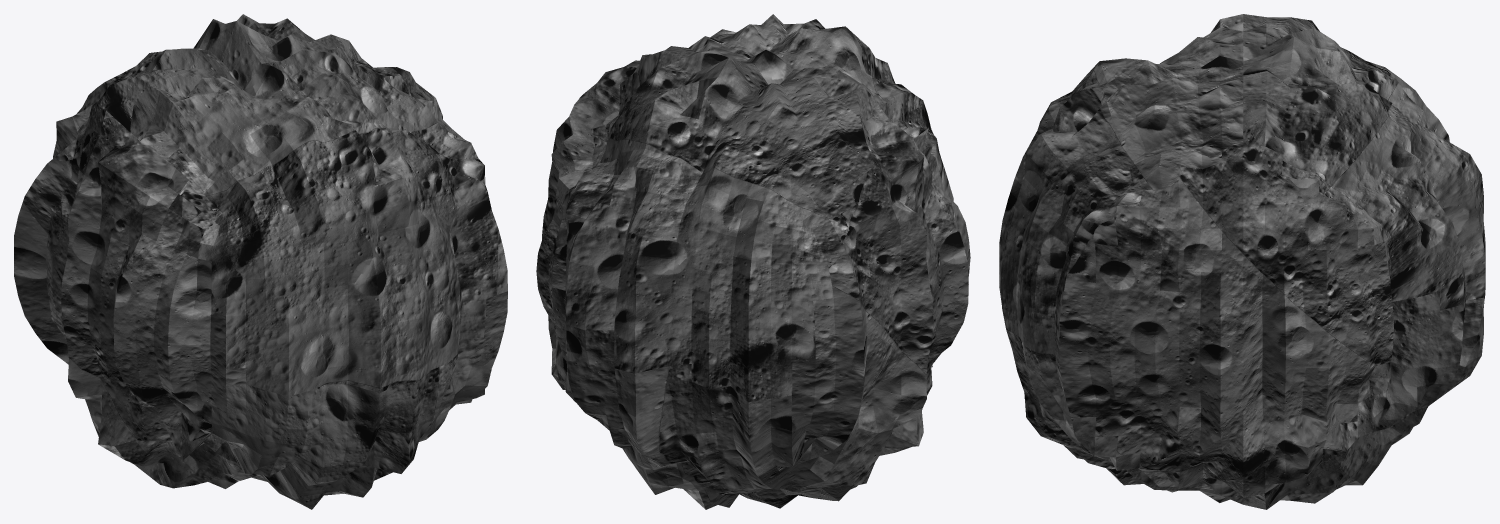
Rendered from asteroid85.obj.
3 renders of one model, left to right at view 1: azimuth 30°, elevation 25°; view 2: azimuth 150°, elevation 25°; view 3: azimuth 270°, elevation 25°, orthographic.
Parts seen in each view (by area): view 1: Cube_Cube.002; view 2: Cube_Cube.002; view 3: Cube_Cube.002.
Boxes of the visible parts, left/top/right/bottom form: Cube_Cube.002: left=14, top=14, right=507, bottom=509; Cube_Cube.002: left=536, top=14, right=970, bottom=509; Cube_Cube.002: left=999, top=14, right=1485, bottom=509.
Bounding box in the file's own units: 1.68 × 1.89 × 1.83.
